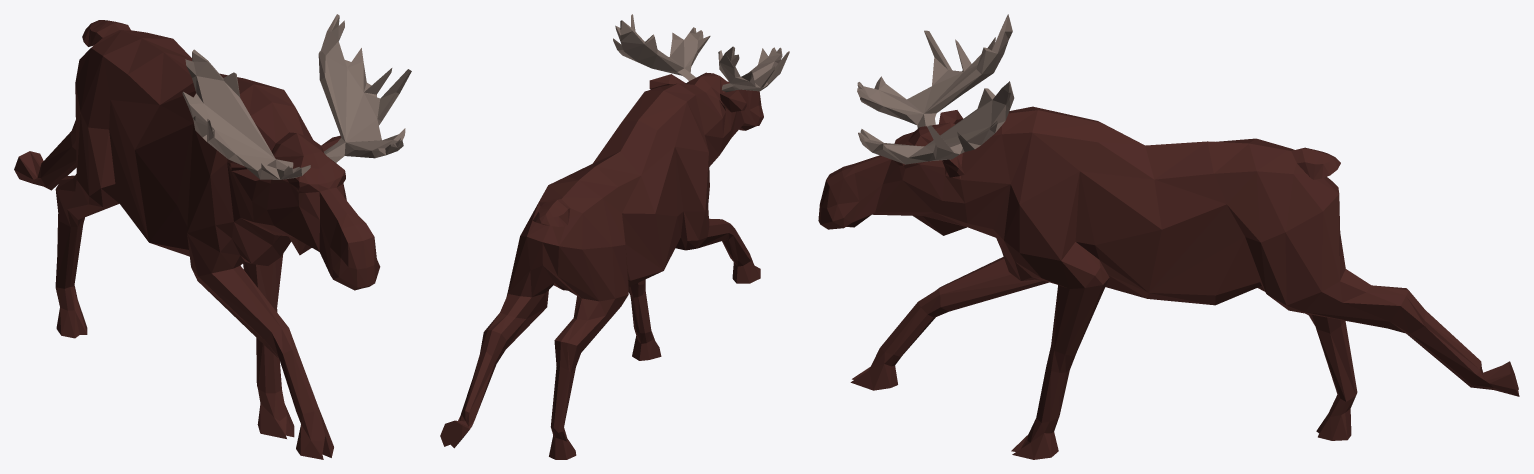
The model's file is moose_colorMap2.obj.
The picture shows the model from 3 angles, left to right: view 1: azimuth 30°, elevation 25°; view 2: azimuth 150°, elevation 25°; view 3: azimuth 270°, elevation 25°; orthographic projection. The views are drawn at different scales.
Visible parts, largest first — view 1: Mesh.001_comp_moose_rig1:moose; view 2: Mesh.001_comp_moose_rig1:moose; view 3: Mesh.001_comp_moose_rig1:moose.
Boxes of the visible parts, x1,y1,x2,y2 form: Mesh.001_comp_moose_rig1:moose: (14,14,411,459); Mesh.001_comp_moose_rig1:moose: (440,14,789,459); Mesh.001_comp_moose_rig1:moose: (818,14,1519,459).
Bounding box in the file's own units: 122 × 239 × 381.
